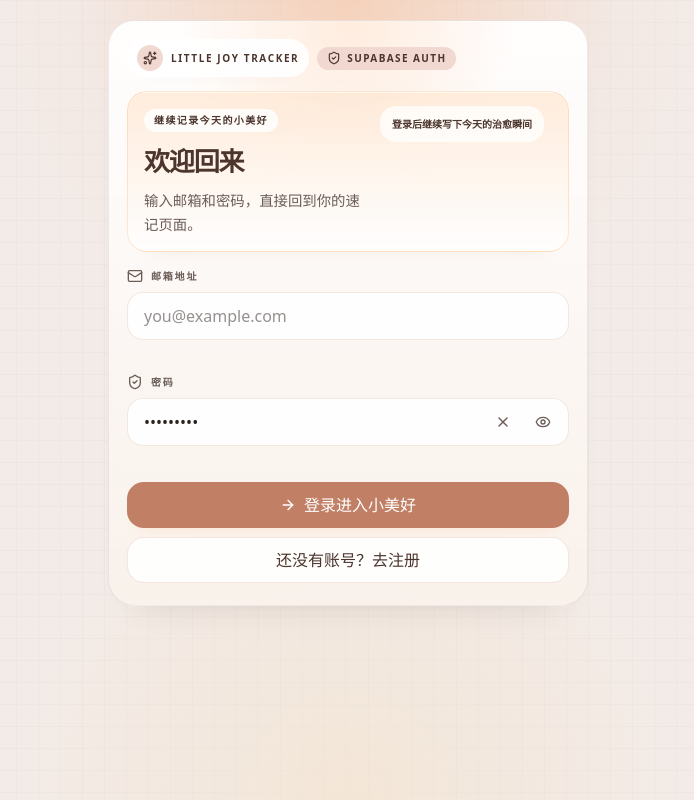
Test: AuthScreen › toggles password visibility without changing the value
This screenshot has width=694, height=800.
Click the button named "显示密码" at (543, 422), box top-left (525, 404), bottom-right (561, 440)
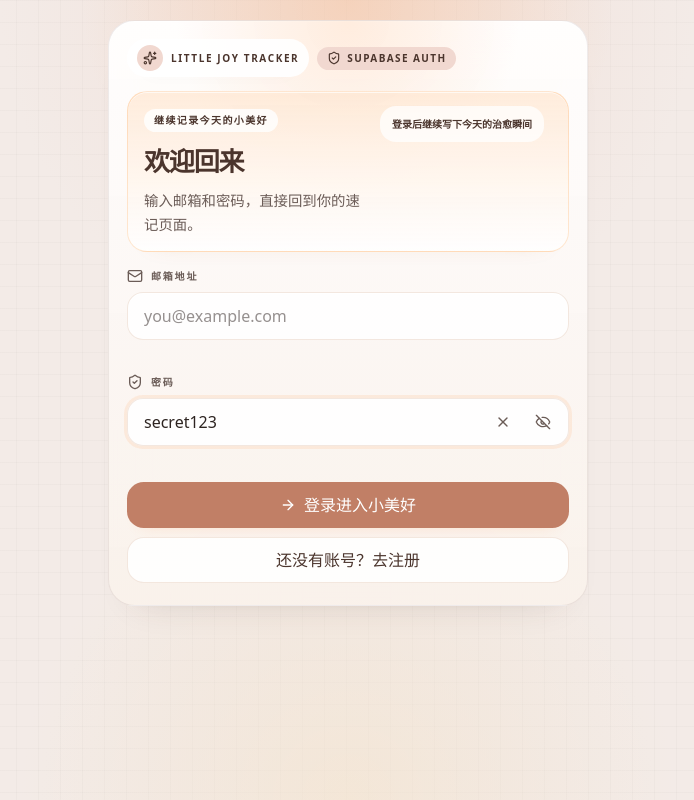
Expected: the field with placeholder "请输入密码" shows its text, top-left (127, 398), bottom-right (569, 446)
Expected: the button named "隐藏密码" is shown, top-left (525, 404), bottom-right (561, 440)
